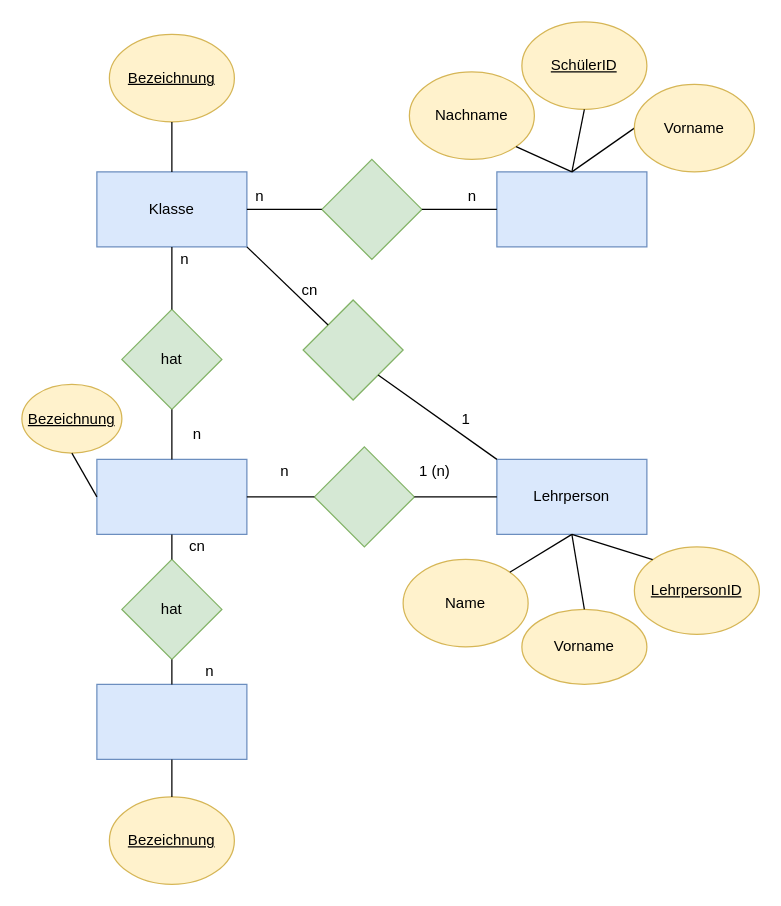
Some shapes in this 781 by 906 pixel diagram are drawn without their labels. The centre of each missing label's shape, as x and y in pixels:
"Fach" belongs at pixel 171 496.
"ist in" belongs at pixel 371 208.
"ist KLP" belongs at pixel 352 349.
"Lernender" belongs at pixel 571 209.
"Raum" belongs at pixel 171 721.
"unterrichtet" belongs at pixel 363 496.
